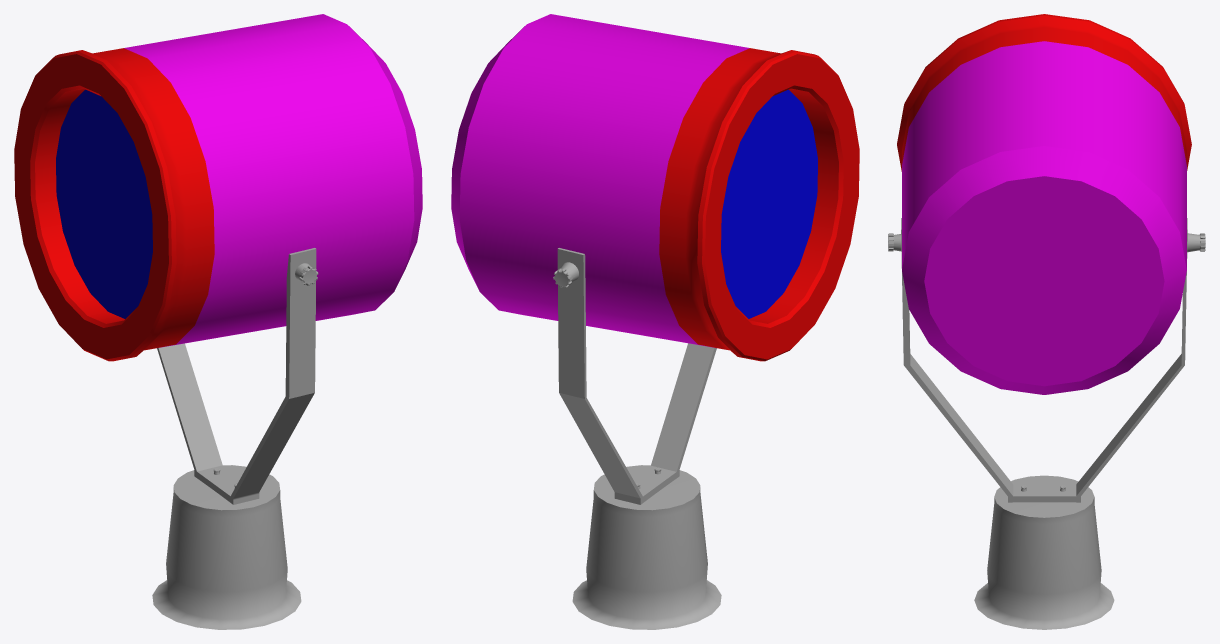
Rendered from searhclight.fbx.
The picture shows the model from 3 angles, left to right: view 1: azimuth 30°, elevation 25°; view 2: azimuth 150°, elevation 25°; view 3: azimuth 270°, elevation 25°; orthographic projection. The views are drawn at different scales.
Visible parts, largest first — view 1: SearchLight; view 2: SearchLight; view 3: SearchLight.
Boxes of the visible parts, <box> form: SearchLight: <box>14,14,422,629</box>; SearchLight: <box>451,14,859,629</box>; SearchLight: <box>888,14,1205,629</box>.
Bounding box in the file's own units: 5.36 × 10.22 × 5.54.
